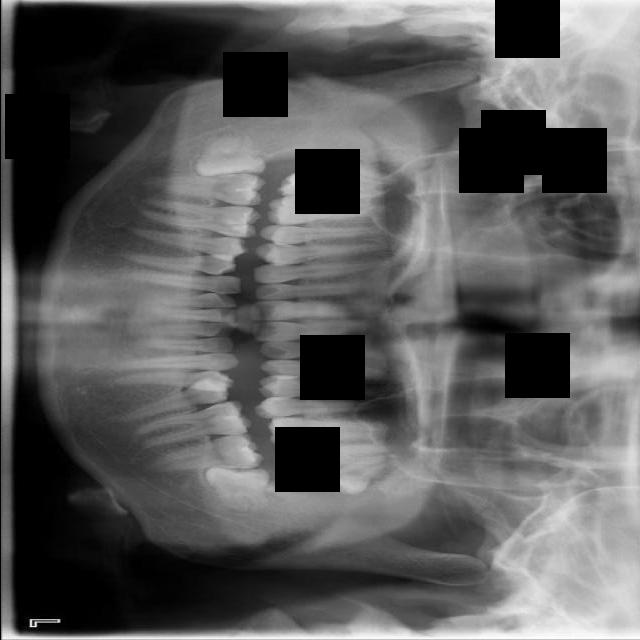3M ESPE Implant: (300, 143, 402, 191)
52: (208, 425, 265, 481), (214, 167, 266, 210), (206, 201, 262, 240), (199, 400, 252, 436)
73: (34, 614, 42, 622)
BioHorizons Implant: (277, 440, 394, 475)
BioLife Implant: (310, 451, 402, 504)
Biomet 3i Implant: (204, 464, 269, 514)
Blue Sky Bio Implant: (142, 431, 262, 475)
Caries: (274, 170, 384, 199)
Implant: (158, 164, 266, 208)
Keystone Dental Implant: (189, 127, 266, 184)
